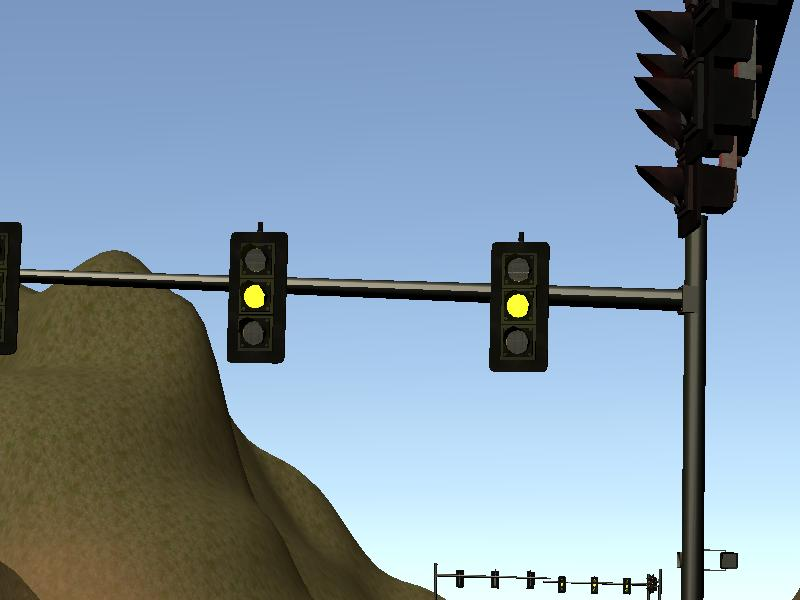not_red: (227, 229, 285, 361), (489, 242, 547, 372)
